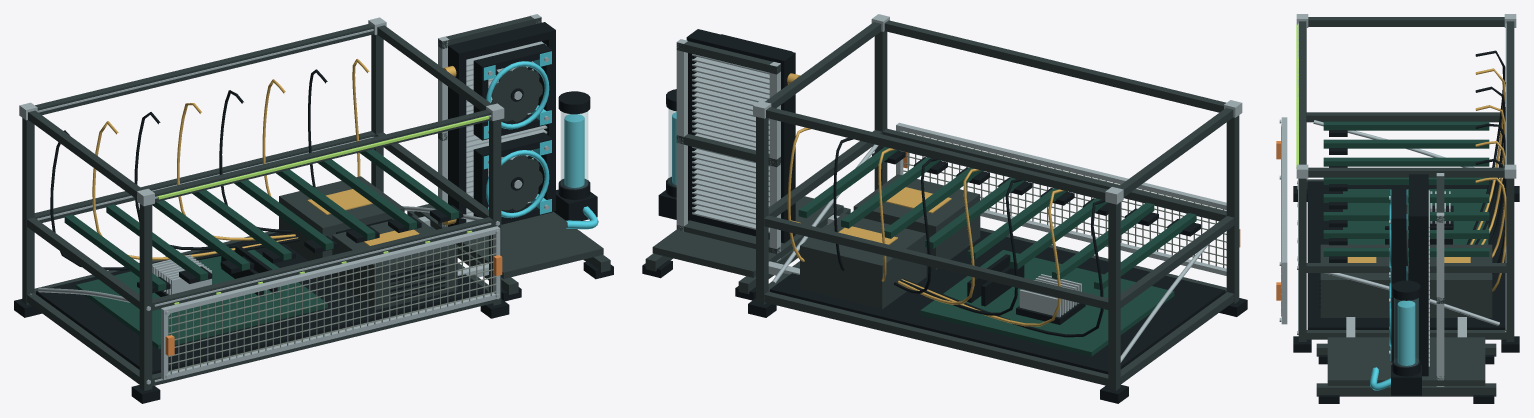
The model's file is rig-8-frame-filtered-liquid.glb.
The picture shows the model from 3 angles, left to right: view 1: azimuth 30°, elevation 25°; view 2: azimuth 150°, elevation 25°; view 3: azimuth 270°, elevation 25°; orthographic projection. The views are drawn at different scales.
Parts seen in each view (by area): view 1: Anodized graphite (×4), Rubber and ABS (×5), Circuit board, Brushed aluminium (×3), Filter fibres, Coolant blue (×3), cooling-liquid, rig-8-frame-filtered-liquid, Contacts, slot-cable-1, slot-cable-2, slot-cable-3 (+2 smaller); view 2: Anodized graphite (×2), Rubber and ABS (×3), Brushed aluminium (×3), Circuit board, Filter fibres, Contacts, slot-cable-1, slot-cable-2, slot-cable-3, slot-cable-4, cooling-liquid, slot-cable-5; view 3: Anodized graphite (×2), Rubber and ABS (×5), Circuit board, Brushed aluminium (×3), Coolant blue (×2), cooling-liquid, slot-cable-1, slot-cable-2, rig-8-frame-filtered-liquid, slot-cable-3, slot-cable-4, slot-cable-8 (+3 smaller).
Boxes of the visible parts, x1=… form: Anodized graphite (×4): x1=22, y1=16, x2=610, y2=390; Rubber and ABS (×5): x1=14, y1=22, x2=613, y2=403; Circuit board: x1=64, y1=149, x2=458, y2=349; Brushed aluminium (×3): x1=19, y1=14, x2=547, y2=384; Filter fibres: x1=168, y1=235, x2=496, y2=374; Coolant blue (×3): x1=483, y1=51, x2=598, y2=229; cooling-liquid: x1=561, y1=111, x2=587, y2=189; rig-8-frame-filtered-liquid: x1=158, y1=116, x2=489, y2=199; Contacts: x1=307, y1=189, x2=419, y2=246; slot-cable-1: x1=50, y1=130, x2=299, y2=270; slot-cable-2: x1=92, y1=121, x2=298, y2=260; slot-cable-3: x1=134, y1=112, x2=297, y2=250; Anodized graphite (×2): x1=645, y1=20, x2=1239, y2=390; Rubber and ABS (×3): x1=642, y1=29, x2=1247, y2=403; Brushed aluminium (×3): x1=676, y1=14, x2=1242, y2=362; Circuit board: x1=798, y1=147, x2=1196, y2=356; Filter fibres: x1=903, y1=132, x2=1226, y2=267; Contacts: x1=838, y1=187, x2=951, y2=244; slot-cable-1: x1=902, y1=200, x2=1105, y2=337; slot-cable-2: x1=901, y1=189, x2=1063, y2=326; slot-cable-3: x1=900, y1=179, x2=1021, y2=315; slot-cable-4: x1=898, y1=168, x2=979, y2=304; cooling-liquid: x1=668, y1=109, x2=676, y2=186; slot-cable-5: x1=894, y1=158, x2=937, y2=293; Anodized graphite (×2): x1=1298, y1=17, x2=1514, y2=396; Rubber and ABS (×5): x1=1293, y1=130, x2=1519, y2=403; Circuit board: x1=1323, y1=121, x2=1489, y2=262; Brushed aluminium (×3): x1=1281, y1=14, x2=1516, y2=386; Coolant blue (×2): x1=1370, y1=190, x2=1415, y2=390; cooling-liquid: x1=1394, y1=298, x2=1418, y2=366; slot-cable-1: x1=1466, y1=50, x2=1505, y2=244; slot-cable-2: x1=1470, y1=68, x2=1505, y2=244; rig-8-frame-filtered-liquid: x1=1296, y1=24, x2=1298, y2=168; slot-cable-3: x1=1474, y1=86, x2=1505, y2=244; slot-cable-4: x1=1475, y1=105, x2=1505, y2=244; slot-cable-8: x1=1475, y1=177, x2=1506, y2=291.
Size of the model in its own units: 8.43 by 3.32 by 3.94.
